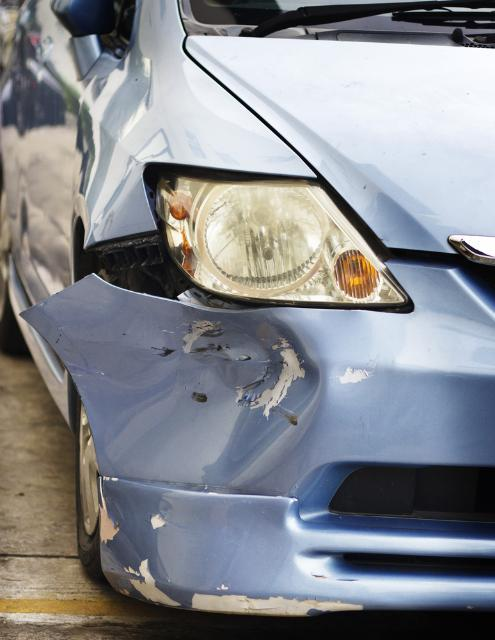dent: (142, 306, 323, 483)
dislocated part: (20, 230, 495, 619)
scratch: (101, 500, 367, 618)
